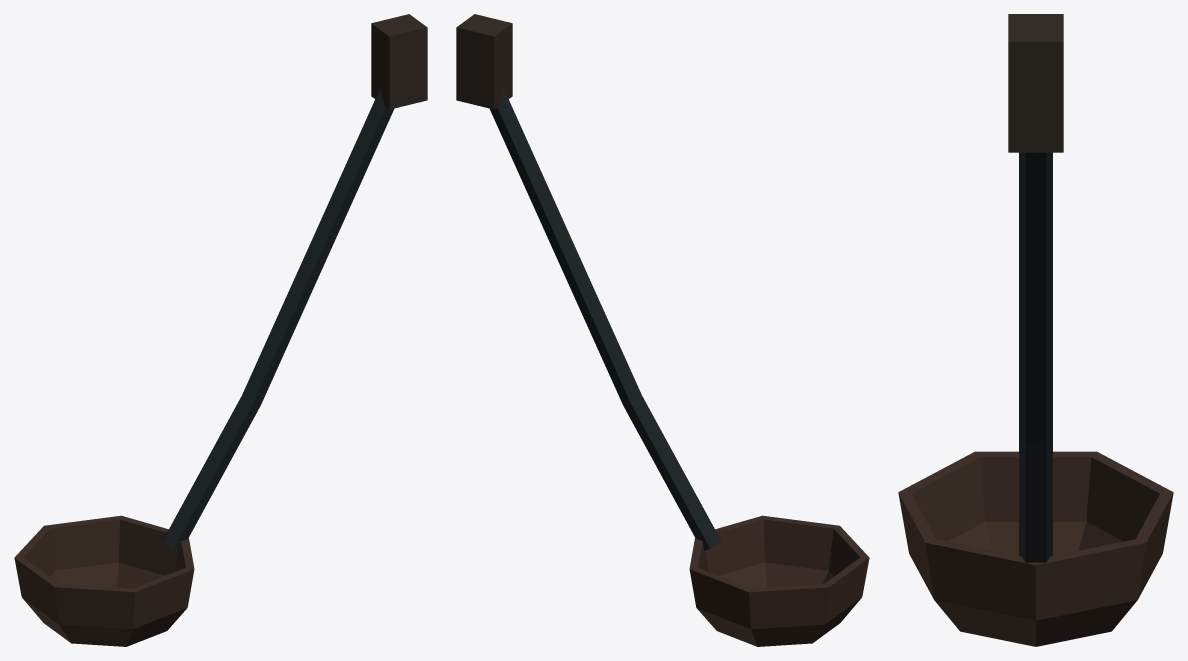
File: T1_Prop_Ladle.fbx
3 views of the same model, side by side, from view 1: azimuth 30°, elevation 25°; view 2: azimuth 150°, elevation 25°; view 3: azimuth 270°, elevation 25° (orthographic). The views are drawn at different scales.
Visible parts, largest first — view 1: T1_Prop_Ladle; view 2: T1_Prop_Ladle; view 3: T1_Prop_Ladle.
Boxes of the visible parts, left/top/right/bottom form: T1_Prop_Ladle: left=14, top=14, right=427, bottom=646; T1_Prop_Ladle: left=456, top=14, right=869, bottom=646; T1_Prop_Ladle: left=898, top=14, right=1173, bottom=646.
Bounding box in the file's own units: 1.21 × 1.62 × 0.4972.
